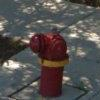Hydrant: (25, 17, 74, 96)
